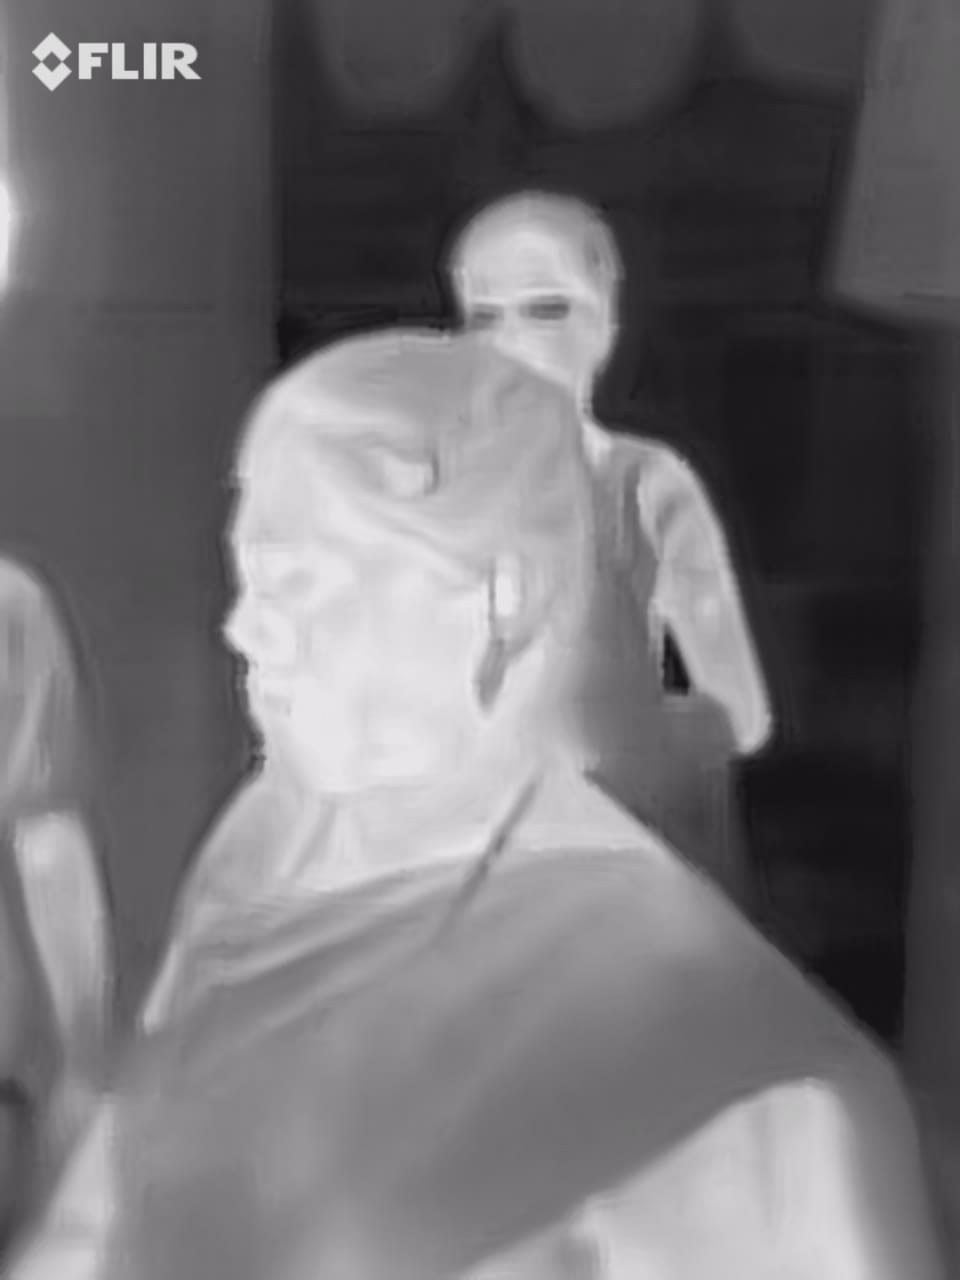head: (219, 321, 602, 837)
